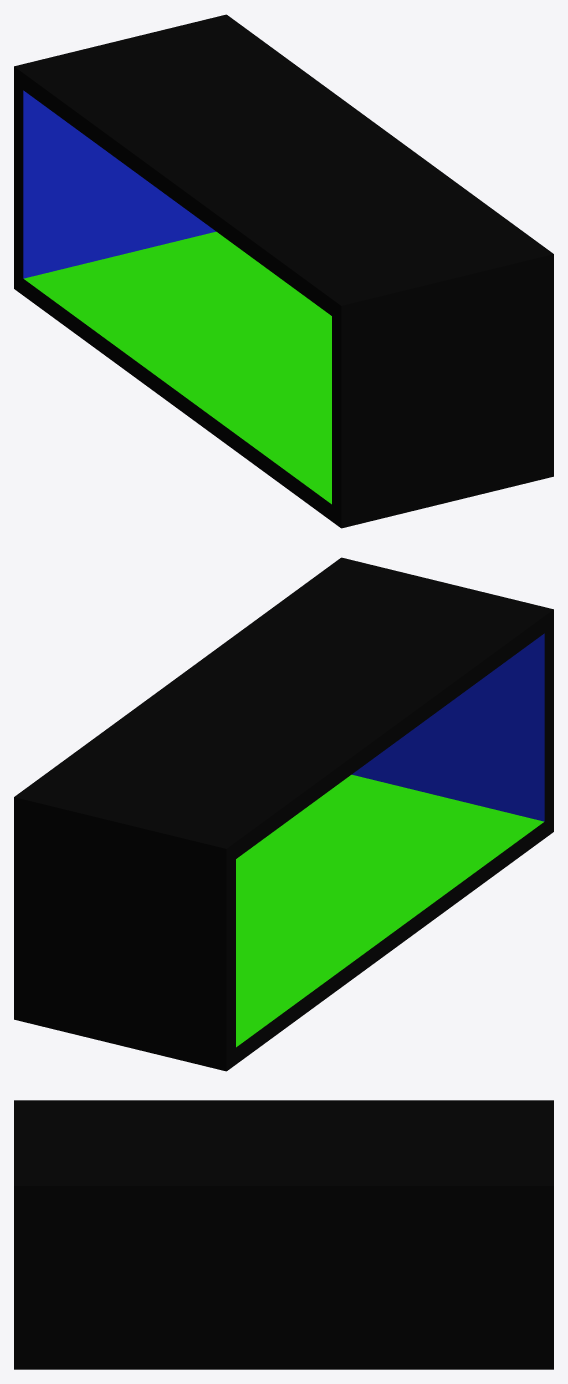
Rendered from SM_Room.fbx.
3 renders of one model, top to bottom at view 1: azimuth 30°, elevation 25°; view 2: azimuth 150°, elevation 25°; view 3: azimuth 270°, elevation 25°, orthographic. The views are drawn at different scales.
Visible parts, largest first — view 1: Cube; view 2: Cube; view 3: Cube.
Part boxes in pixels (bbox=[...]): Cube: bbox=[14, 14, 553, 528]; Cube: bbox=[14, 557, 553, 1071]; Cube: bbox=[14, 1100, 553, 1369].
Size of the model in its own units: 3 by 3 by 8.
